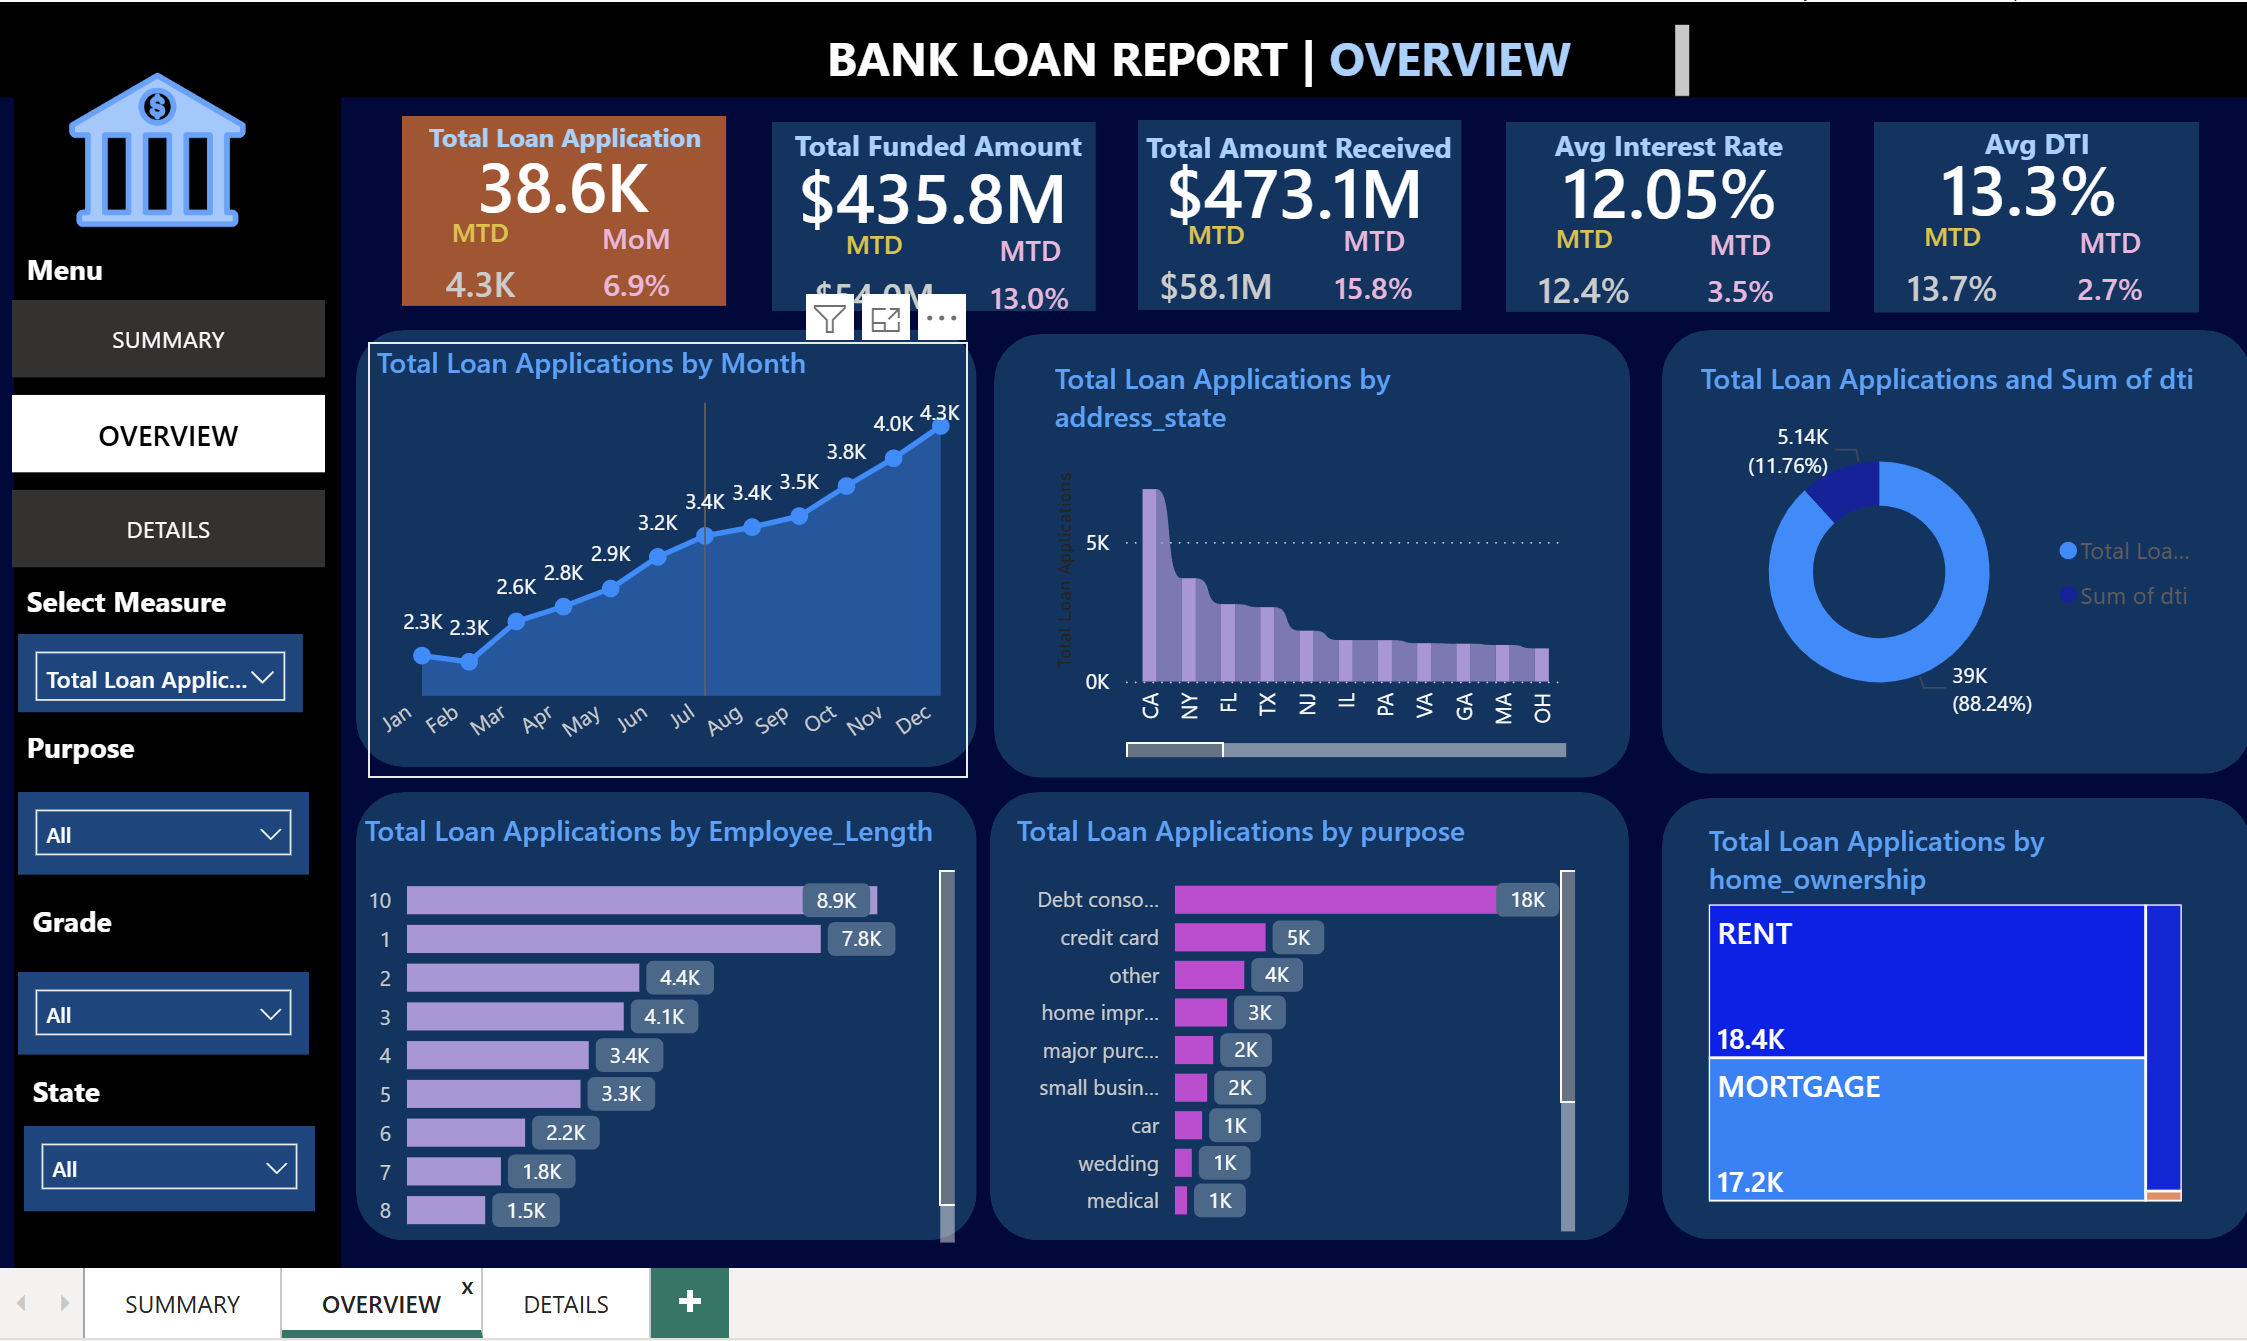

The page's visual inventory and layout, read from the dashboard file:
{"tool":"powerbi","page":{"name":" OVERVIEW","canvas":[1280,720],"ordinal":1},"visuals":[{"type":"shape","box":[228.5,65.1,184.5,108.1],"z":0,"group":"g1"},{"type":"shape","box":[647.4,66.5,184.2,108.2],"z":0,"group":"g2"},{"type":"shape","box":[438.5,67.9,184.4,107.6],"z":0,"group":"g3"},{"type":"shape","box":[856.7,68.1,184.4,108.1],"z":0,"group":"g4"},{"type":"shape","box":[1065.8,69.1,184.9,108.4],"z":0,"group":"g5"},{"type":"shape","box":[202.7,186.1,353.1,248.6],"z":0},{"type":"shape","box":[7.6,53.5,186.1,666.8],"z":1000},{"type":"card","fields":{"Values":["financial_loan.Total Loan Applications"]},"box":[258.6,75.7,124.2,58.7],"z":1000,"group":"g1"},{"type":"card","fields":{"Values":["financial_loan.Avg Interest rate"]},"box":[879.9,79.1,141.5,56.1],"z":1000,"group":"g4"},{"type":"card","fields":{"Values":["financial_loan.Avg DTI"]},"box":[1089.1,79.3,131.6,55.2],"z":1000,"group":"g5"},{"type":"card","fields":{"Values":["financial_loan.Total Amount Received"]},"box":[653.6,80.2,164.5,53.5],"z":1000,"group":"g2"},{"type":"card","fields":{"Values":["financial_loan.Total funded amount"]},"box":[426.7,81.5,207.8,57.4],"z":1000,"group":"g3"},{"type":"shape","box":[0,0,1280,54.3],"z":2000},{"type":"textbox","box":[210.4,61.6,221.8,31.7],"z":2000,"group":"g1"},{"type":"textbox","box":[1048,64,222.2,31.7],"z":2000,"group":"g5"},{"type":"textbox","box":[838.6,64.6,221.7,31.7],"z":2000,"group":"g4"},{"type":"textbox","box":[426.2,65,214.2,34.4],"z":2000,"group":"g3"},{"type":"textbox","box":[627.7,65.6,221.8,31.9],"z":2000,"group":"g2"},{"type":"textbox","box":[465.2,8,500.5,63.7],"z":3000},{"type":"card","title":"MTD","fields":{"Values":["financial_loan.MTD Loan Application"]},"box":[229.7,120.3,86.8,63.4],"z":3000,"group":"g1"},{"type":"card","title":"MTD","fields":{"Values":["financial_loan.MTD Total Amount Recieved"]},"box":[648.6,121.7,86.7,63.5],"z":3000,"group":"g2"},{"type":"card","title":"MTD","fields":{"Values":["financial_loan.MTD AvgE DTI"]},"box":[1067.3,122.7,86.9,63.4],"z":3000,"group":"g5"},{"type":"card","title":"MTD","fields":{"Values":["financial_loan.MTD Avg Interest rate"]},"box":[857.9,123.3,86.8,63.4],"z":3000,"group":"g4"},{"type":"card","title":"MTD","fields":{"Values":["financial_loan.MTD Funded Amount"]},"box":[453.4,127.1,86.8,63.2],"z":3000,"group":"g3"},{"type":"group","id":"g1","title":"Group 1","box":[210.4,61.6,222,122],"z":4000},{"type":"card","title":"MoM","fields":{"Values":["financial_loan.MoM Loan Applications"]},"box":[318.9,122.7,86.8,58.7],"z":4000,"group":"g1"},{"type":"card","title":"MTD","fields":{"Values":["financial_loan.MoM Total Amount recieved"]},"box":[737.7,124.1,86.7,58.8],"z":4000,"group":"g2"},{"type":"card","title":"MTD","fields":{"Values":["financial_loan.MoM Avg DTI"]},"box":[1156.7,125.1,86.9,58.7],"z":4000,"group":"g5"},{"type":"card","title":"MTD","fields":{"Values":["financial_loan.MoM Avg interest"]},"box":[947,125.7,86.8,58.7],"z":4000,"group":"g4"},{"type":"card","title":"MTD","fields":{"Values":["financial_loan.MoM Total Funded Amount"]},"box":[542.5,129.4,86.8,58.5],"z":4000,"group":"g3"},{"type":"group","id":"g2","title":"Group 1","box":[627.7,65.6,221.8,119.7],"z":5000},{"type":"group","id":"g3","title":"Group 1","box":[426.2,65,214.2,125.3],"z":6000},{"type":"group","id":"g4","title":"Group 1","box":[838.6,64.6,221.7,122.2],"z":7000},{"type":"group","id":"g5","title":"Group 1","box":[1048,64,221.8,122.4],"z":8000},{"type":"slicer","fields":{"Values":["financial_loan.purpose"]},"box":[10.2,448.8,165.7,47.2],"z":9000},{"type":"textbox","box":[10.2,406.7,102,34.4],"z":10000},{"type":"slicer","fields":{"Values":["financial_loan.grade"]},"box":[10.2,552,165.7,47.2],"z":11000},{"type":"textbox","box":[14,603,102,35.7],"z":12000},{"type":"textbox","box":[14,506.1,88,34.4],"z":13000},{"type":"slicer","fields":{"Values":["financial_loan.address_state"]},"box":[14,638.7,165.7,48.4],"z":14000},{"type":"areaChart","fields":{"Y":["financial_loan.Total Loan Applications"],"Category":["Date Table.Month"]},"box":[209.1,193.8,341.7,247.3],"z":15000},{"type":"slicer","fields":{"Values":["Select Measure.Select Measure"]},"box":[10.2,359.5,161.9,44.6],"z":16000},{"type":"shape","box":[564.8,188.7,362.1,252.4],"z":16500},{"type":"textbox","box":[10.2,323.8,159.4,35.7],"z":17000},{"type":"shape","box":[944.7,186.1,335.3,252.4],"z":19000},{"type":"shape","box":[202.7,448.8,353,255],"z":20000},{"type":"shape","box":[944.7,452.6,335.3,251.2],"z":21000},{"type":"shape","box":[563.5,448.8,363.3,255],"z":22000},{"type":"barChart","fields":{"Y":["financial_loan.Total Loan Applications"],"Category":["financial_loan.emp_length"]},"box":[202.7,459,345.5,251.2],"z":23000},{"type":"barChart","fields":{"Y":["financial_loan.Total Loan Applications"],"Category":["financial_loan.purpose"]},"box":[573.7,459,327.6,244.8],"z":24000},{"type":"treemap","fields":{"Values":["financial_loan.Total Loan Applications"],"Group":["financial_loan.home_ownership"]},"box":[966.4,465.3,279.2,221.8],"z":25000},{"type":"pageNavigator","box":[6.4,169.6,178.5,154.3],"z":26000},{"type":"textbox","box":[10.2,135.1,159.4,35.7],"z":27000},{"type":"image","box":[15.3,26.8,149.2,113.5],"z":28000},{"type":"ribbonChart","fields":{"Y":["financial_loan.Total Loan Applications"],"Category":["financial_loan.address_state"]},"box":[595.4,202.7,300.9,232],"z":29000},{"type":"donutChart","fields":{"Y":["financial_loan.Total Loan Applications","Sum(financial_loan.dti)"]},"box":[962.5,202.7,300.9,221.8],"z":30000}]}

Visuals, with their boxes on the page's 1280x720 design canvas (x1, y1, x2, y2). These are canvas units, not pixel positions in the 2247x1341 screenshot, which may show the page scaled, cropped or inside an application window:
shape: box(228, 65, 413, 173)
shape: box(647, 66, 832, 175)
shape: box(438, 68, 623, 176)
shape: box(857, 68, 1041, 176)
shape: box(1066, 69, 1251, 178)
shape: box(203, 186, 556, 435)
shape: box(8, 54, 194, 720)
card - financial_loan.Total Loan Applications: box(259, 76, 383, 134)
card - financial_loan.Avg Interest rate: box(880, 79, 1021, 135)
card - financial_loan.Avg DTI: box(1089, 79, 1221, 134)
card - financial_loan.Total Amount Received: box(654, 80, 818, 134)
card - financial_loan.Total funded amount: box(427, 82, 634, 139)
shape: box(0, 0, 1280, 54)
textbox: box(210, 62, 432, 93)
textbox: box(1048, 64, 1270, 96)
textbox: box(839, 65, 1060, 96)
textbox: box(426, 65, 640, 99)
textbox: box(628, 66, 850, 98)
textbox: box(465, 8, 966, 72)
"MTD" card: box(230, 120, 316, 184)
"MTD" card: box(649, 122, 735, 185)
"MTD" card: box(1067, 123, 1154, 186)
"MTD" card: box(858, 123, 945, 187)
"MTD" card: box(453, 127, 540, 190)
"Group 1" group: box(210, 62, 432, 184)
"MoM" card: box(319, 123, 406, 181)
"MTD" card: box(738, 124, 824, 183)
"MTD" card: box(1157, 125, 1244, 184)
"MTD" card: box(947, 126, 1034, 184)
"MTD" card: box(542, 129, 629, 188)
"Group 1" group: box(628, 66, 850, 185)
"Group 1" group: box(426, 65, 640, 190)
"Group 1" group: box(839, 65, 1060, 187)
"Group 1" group: box(1048, 64, 1270, 186)
slicer - financial_loan.purpose: box(10, 449, 176, 496)
textbox: box(10, 407, 112, 441)
slicer - financial_loan.grade: box(10, 552, 176, 599)
textbox: box(14, 603, 116, 639)
textbox: box(14, 506, 102, 540)
slicer - financial_loan.address_state: box(14, 639, 180, 687)
areaChart - financial_loan.Total Loan Applications x Date Table.Month: box(209, 194, 551, 441)
slicer - Select Measure.Select Measure: box(10, 360, 172, 404)
shape: box(565, 189, 927, 441)
textbox: box(10, 324, 170, 360)
shape: box(945, 186, 1280, 438)
shape: box(203, 449, 556, 704)
shape: box(945, 453, 1280, 704)
shape: box(564, 449, 927, 704)
barChart - financial_loan.Total Loan Applications x financial_loan.emp_length: box(203, 459, 548, 710)
barChart - financial_loan.Total Loan Applications x financial_loan.purpose: box(574, 459, 901, 704)
treemap - financial_loan.Total Loan Applications x financial_loan.home_ownership: box(966, 465, 1246, 687)
pageNavigator: box(6, 170, 185, 324)
textbox: box(10, 135, 170, 171)
image: box(15, 27, 164, 140)
ribbonChart - financial_loan.Total Loan Applications x financial_loan.address_state: box(595, 203, 896, 435)
donutChart - financial_loan.Total Loan Applications x Sum(financial_loan.dti): box(962, 203, 1263, 424)
